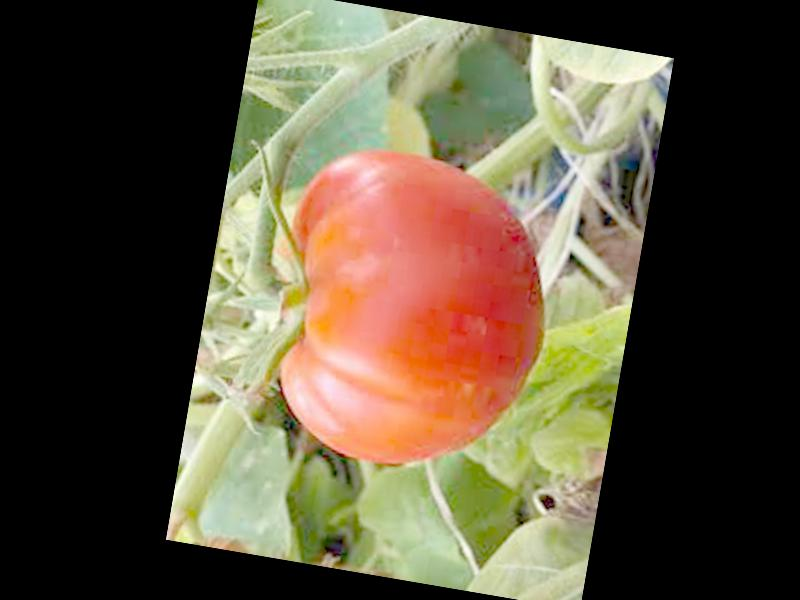Tomato: (256, 133, 567, 486)
